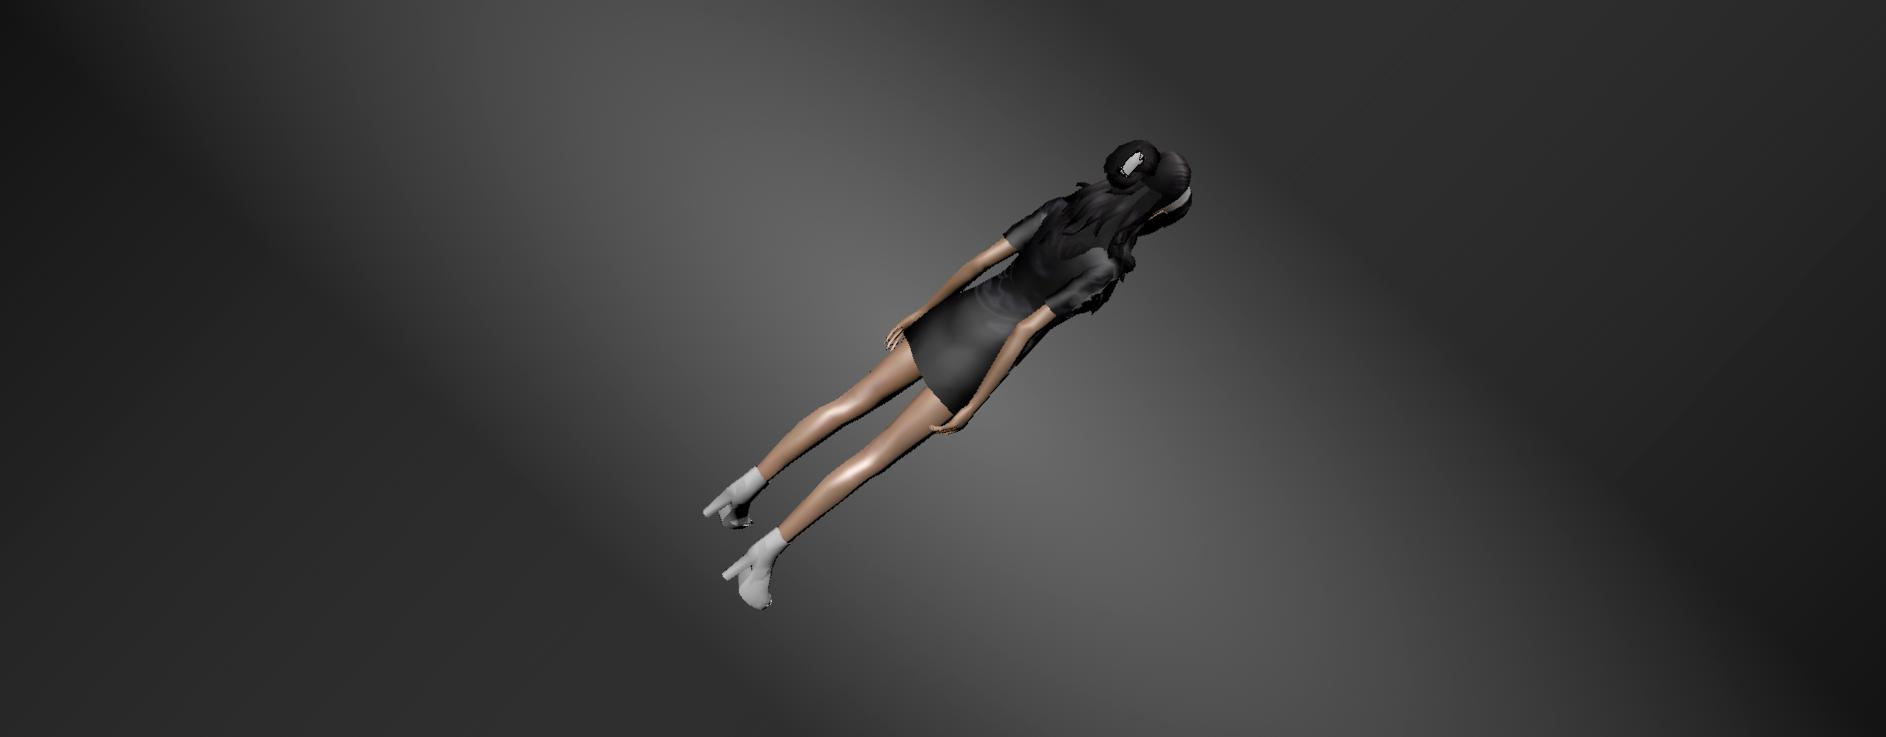clip: (1113, 147, 1151, 183)
